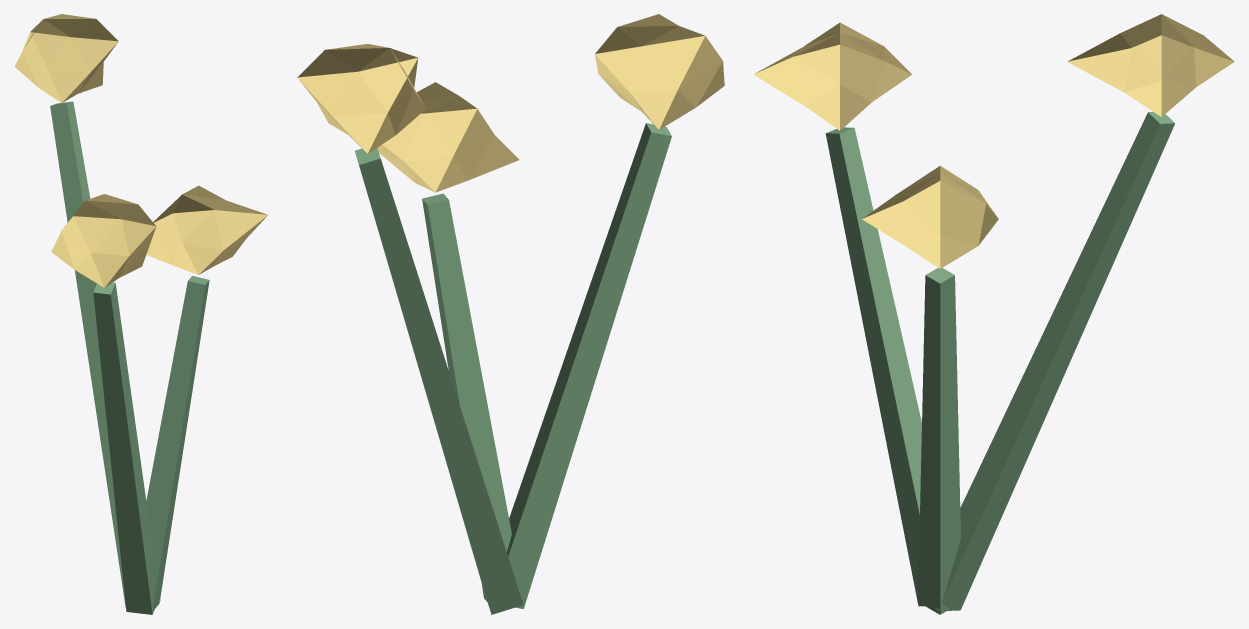
Rendered from flower_v41.glb.
The picture shows the model from 3 angles, left to right: view 1: azimuth 30°, elevation 25°; view 2: azimuth 150°, elevation 25°; view 3: azimuth 270°, elevation 25°; orthographic projection. The views are drawn at different scales.
Visible parts, largest first — view 1: lod0; view 2: lod0; view 3: lod0.
Part boxes in pixels (bbox=[...]): lod0: bbox=[14, 14, 267, 614]; lod0: bbox=[297, 14, 724, 614]; lod0: bbox=[753, 14, 1234, 614].
Size of what is drawn, in the model's own units: 0.2812 by 0.5393 by 0.3899.
